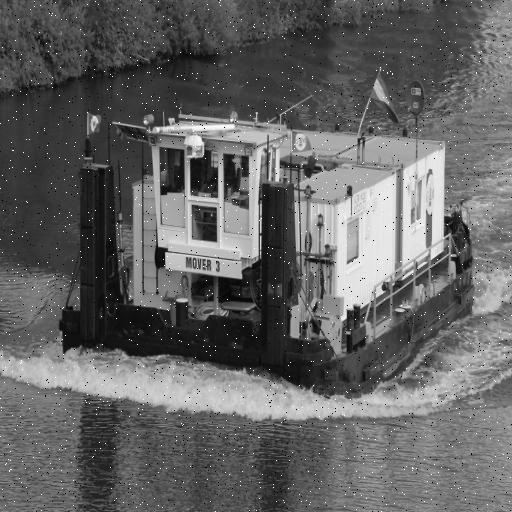tugboat: (54, 99, 480, 410)
